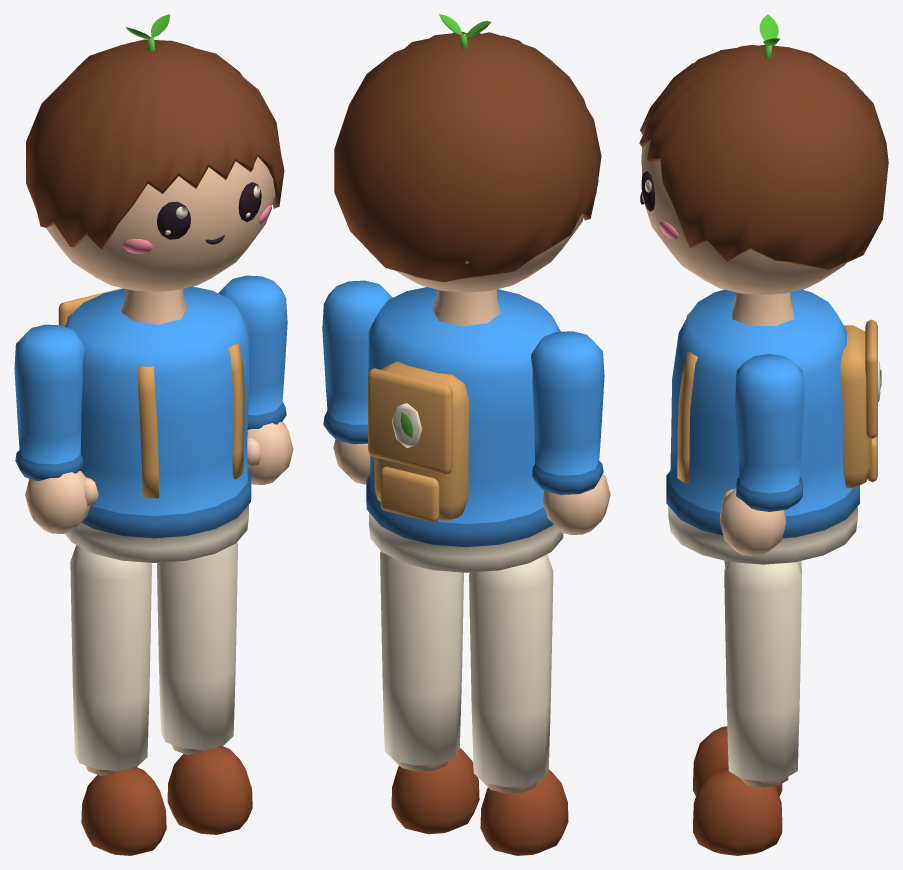
File: hero-man-tiny.glb
3 renders of one model, left to right at view 1: azimuth 30°, elevation 25°; view 2: azimuth 150°, elevation 25°; view 3: azimuth 270°, elevation 25°, orthographic. The views are drawn at different scales.
Visible parts, largest first — view 1: head, body, leg-left, leg-right, arm-left, arm-right; view 2: head, body, leg-left, leg-right, arm-left, arm-right; view 3: head, body, leg-right, arm-right, leg-left, head-leaf.
Part boxes in pixels (bbox=[...]): head: bbox=[26, 39, 284, 324]; body: bbox=[58, 286, 251, 562]; leg-left: bbox=[70, 545, 166, 855]; leg-right: bbox=[157, 542, 252, 834]; arm-left: bbox=[14, 324, 98, 533]; arm-right: bbox=[218, 275, 293, 484]; head: bbox=[334, 31, 601, 326]; body: bbox=[366, 287, 563, 572]; leg-left: bbox=[469, 554, 568, 855]; leg-right: bbox=[380, 551, 479, 834]; arm-left: bbox=[531, 331, 610, 534]; arm-right: bbox=[322, 280, 392, 484]; head: bbox=[639, 44, 888, 326]; body: bbox=[666, 289, 881, 564]; leg-right: bbox=[693, 561, 801, 855]; arm-right: bbox=[720, 354, 803, 556]; leg-left: bbox=[693, 560, 801, 796]; head-leaf: bbox=[759, 14, 779, 58].
Bounding box in the file's own units: 0.7914 × 2.3 × 0.6516.
